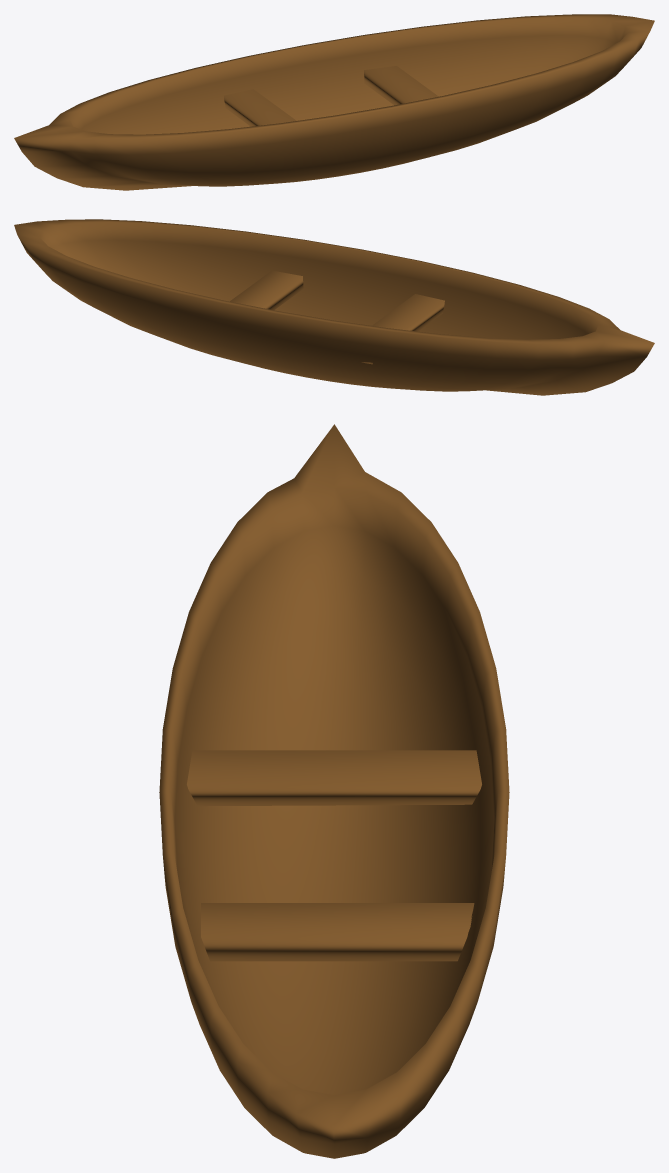
File: boat.fbx
3 views of the same model, one above another, from view 1: azimuth 30°, elevation 25°; view 2: azimuth 150°, elevation 25°; view 3: azimuth 270°, elevation 25° (orthographic). The views are drawn at different scales.
Parts seen in each view (by area): view 1: Boat; view 2: Boat; view 3: Boat.
Part boxes in pixels (left/top/right/bottom): Boat: left=14, top=14, right=654, bottom=190; Boat: left=14, top=219, right=654, bottom=395; Boat: left=159, top=424, right=509, bottom=1158.
Size of the model in its own units: 1023 by 170 by 242.
